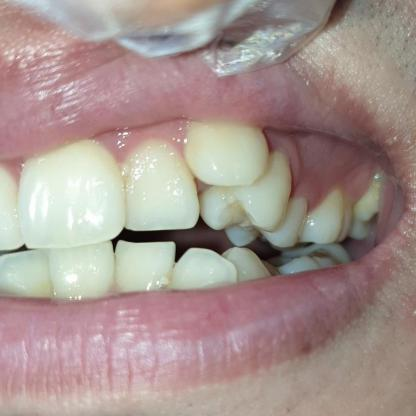Crowding: (169, 244, 270, 287)
